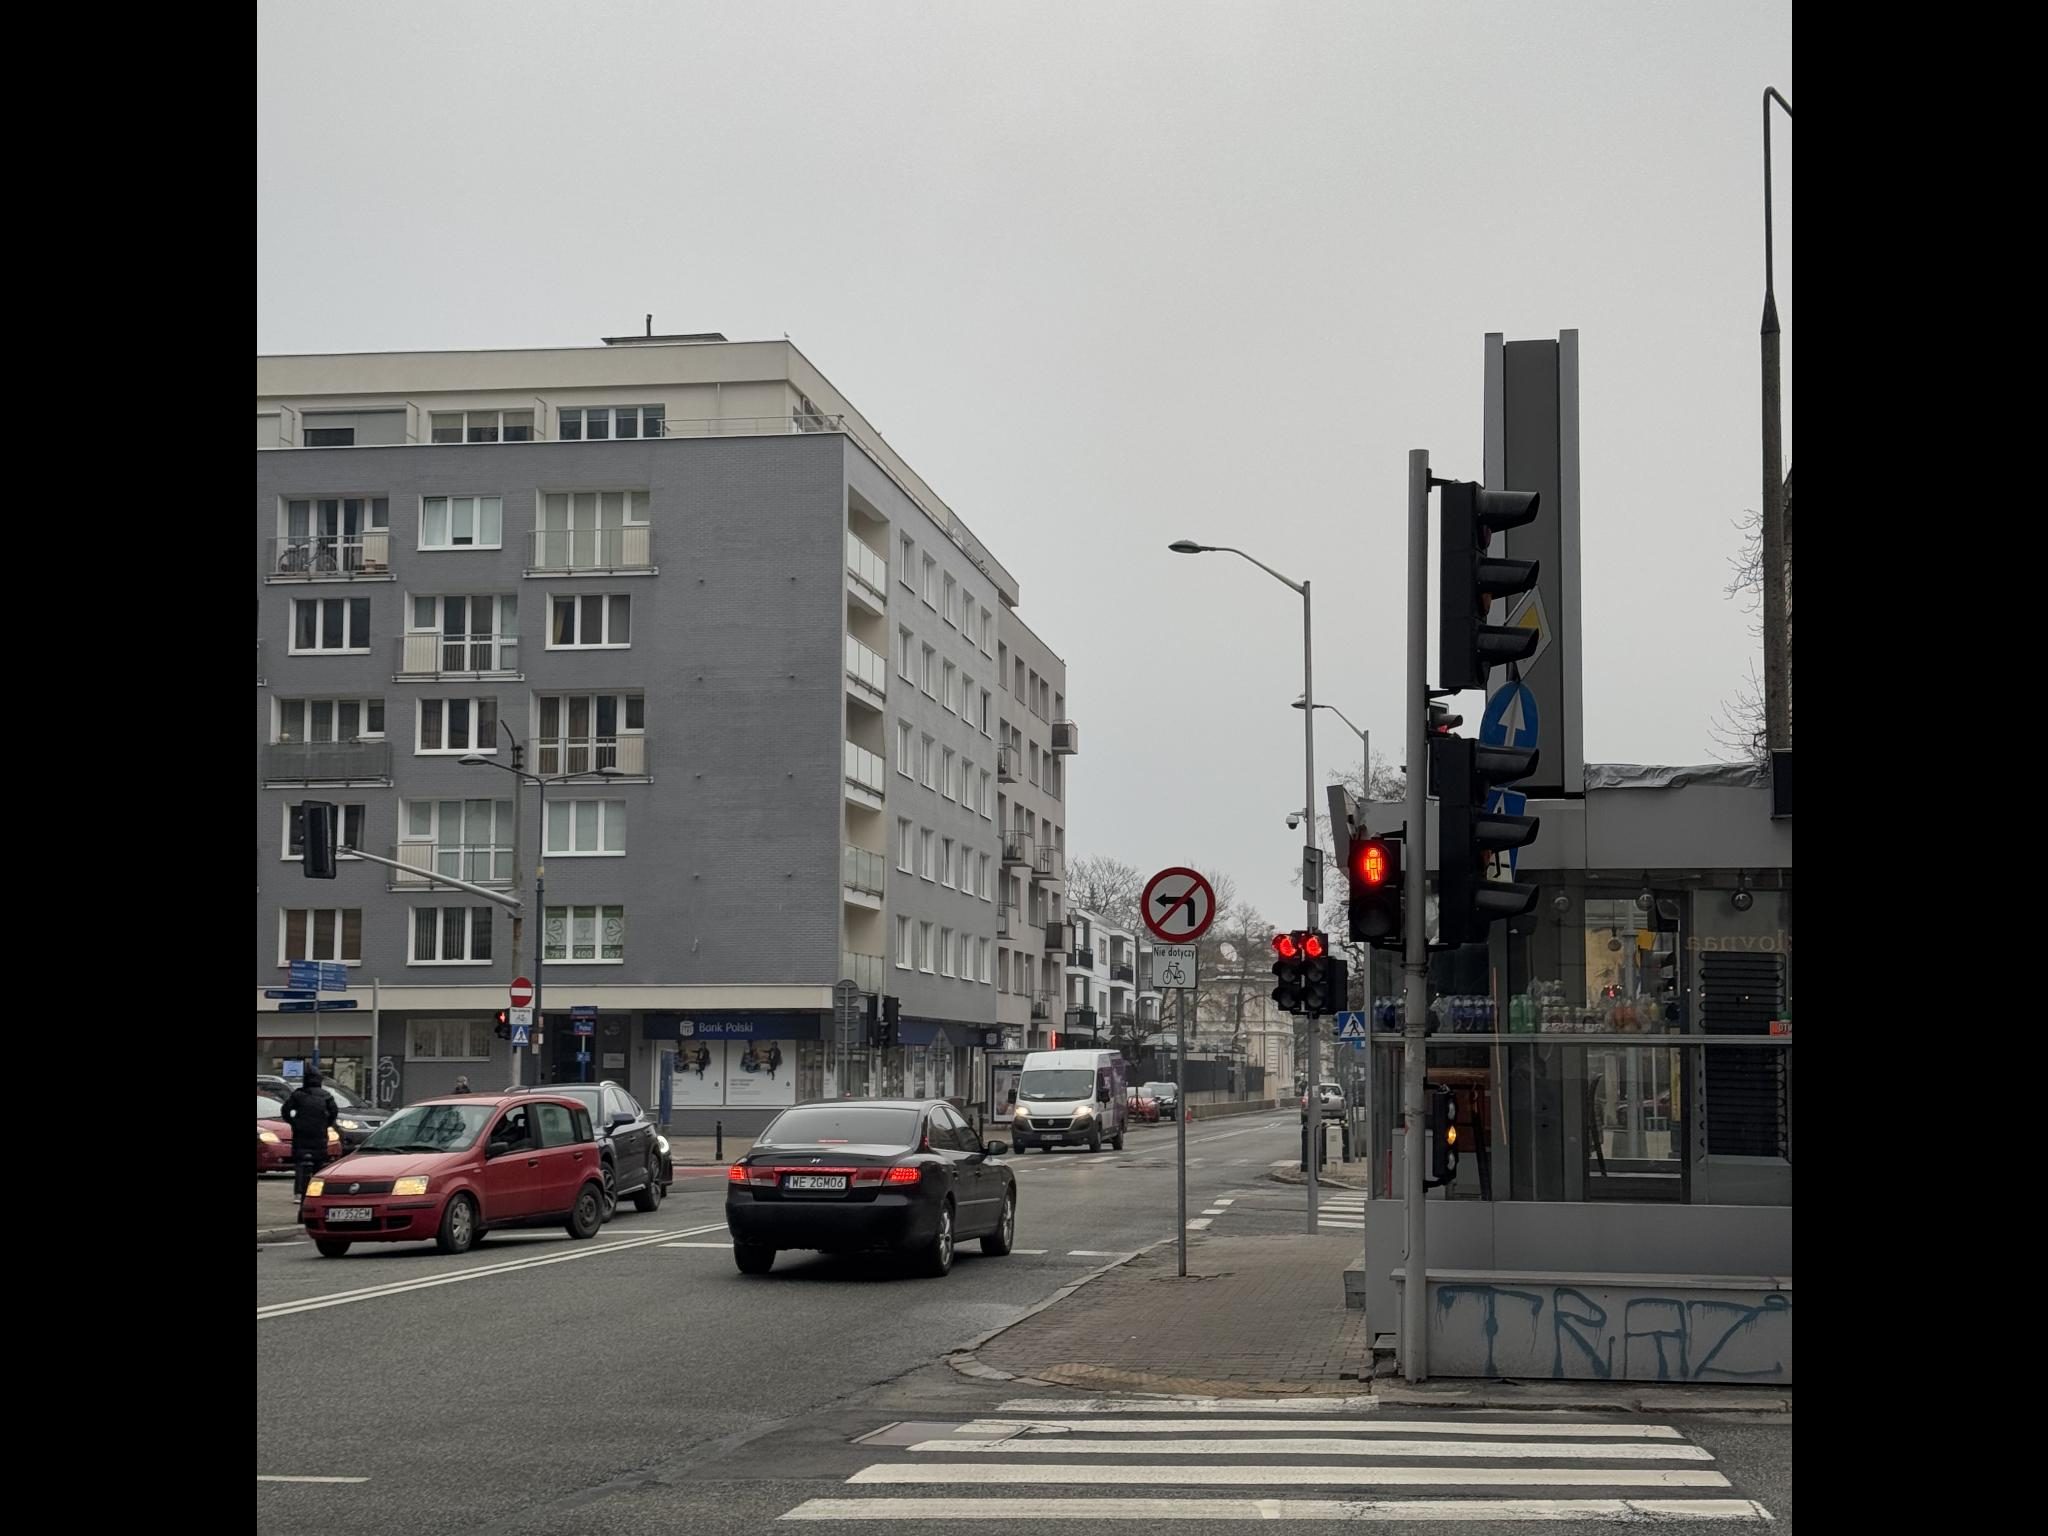information: (495, 826, 524, 852), (489, 0, 511, 18)
mandatory: (785, 966, 851, 1028)
other: (548, 637, 592, 686), (513, 0, 527, 19)
prohibitory: (592, 628, 669, 705), (529, 0, 558, 19)
